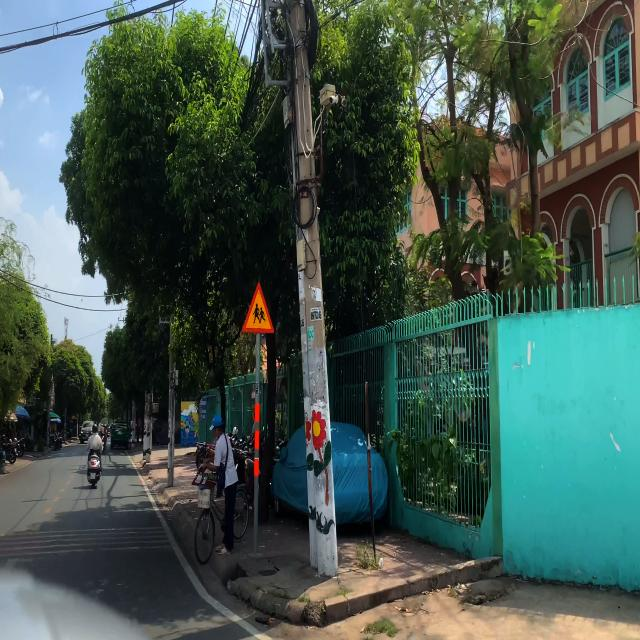Nguy hiem: (242, 281, 275, 334)
